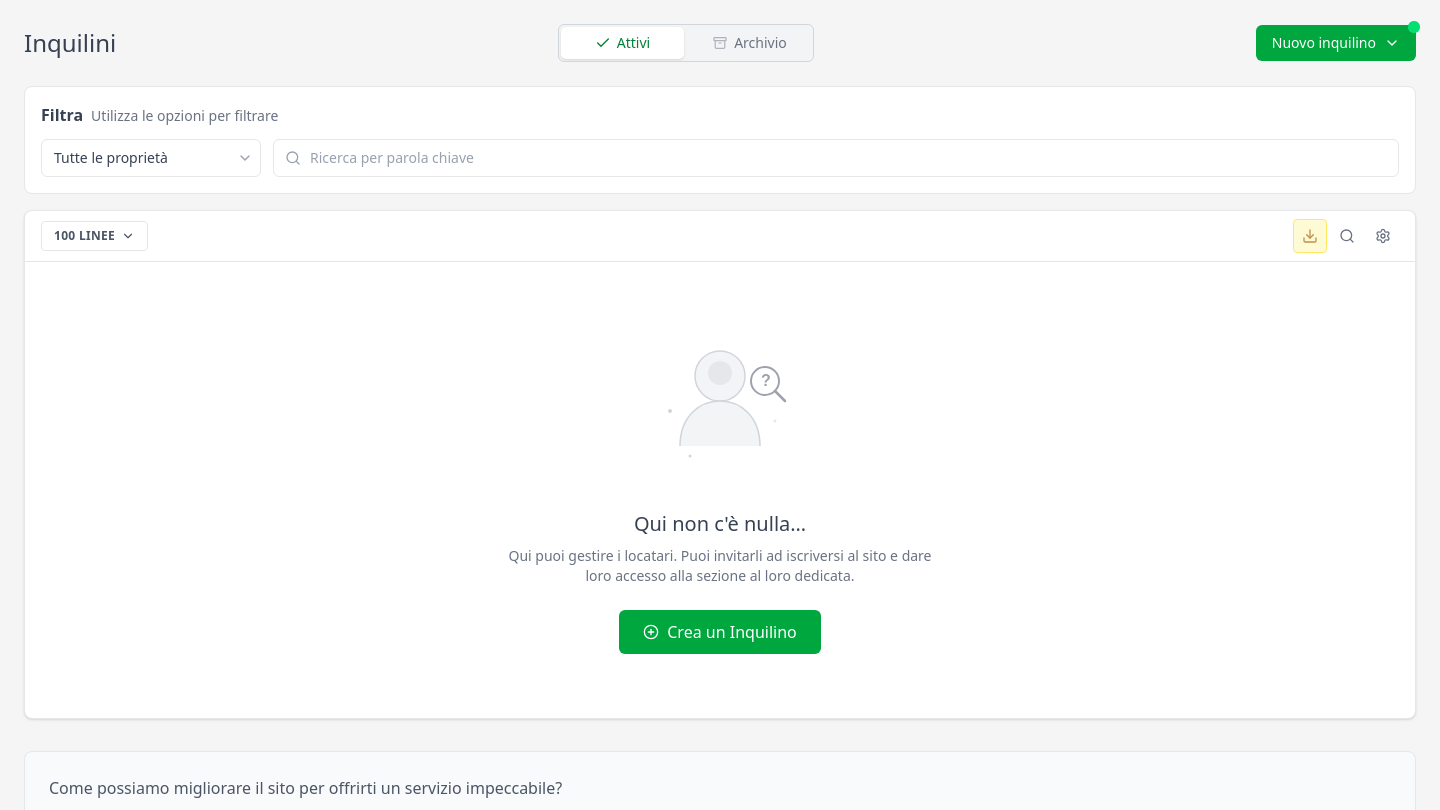
Test: C5.4 lifecycle reale TenantsPage › menu archived e restore persistito
Click the button "Archivio" at (750, 43), box [686, 25, 813, 61]
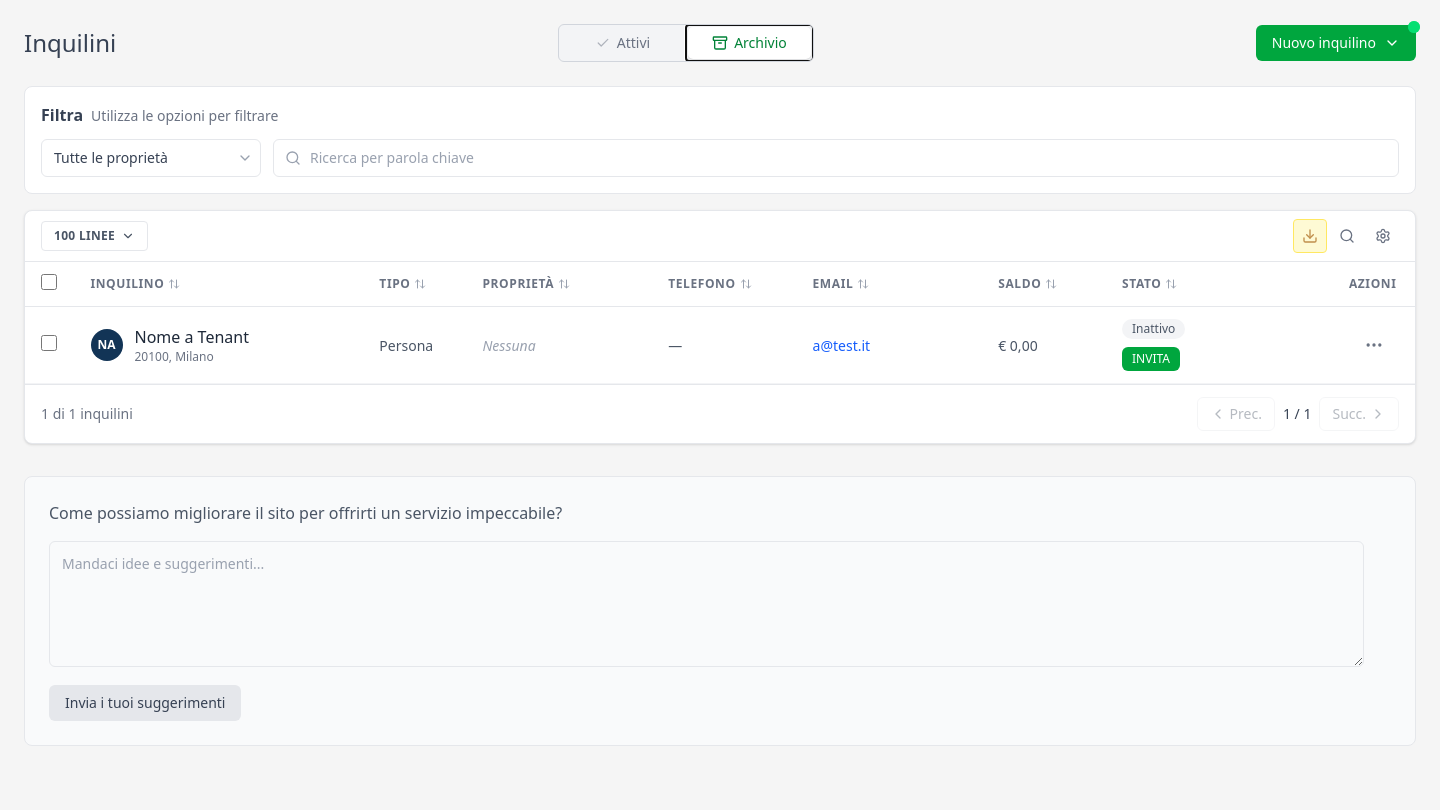
Click the button named "Azioni" at (1374, 345), box [1356, 327, 1392, 363]
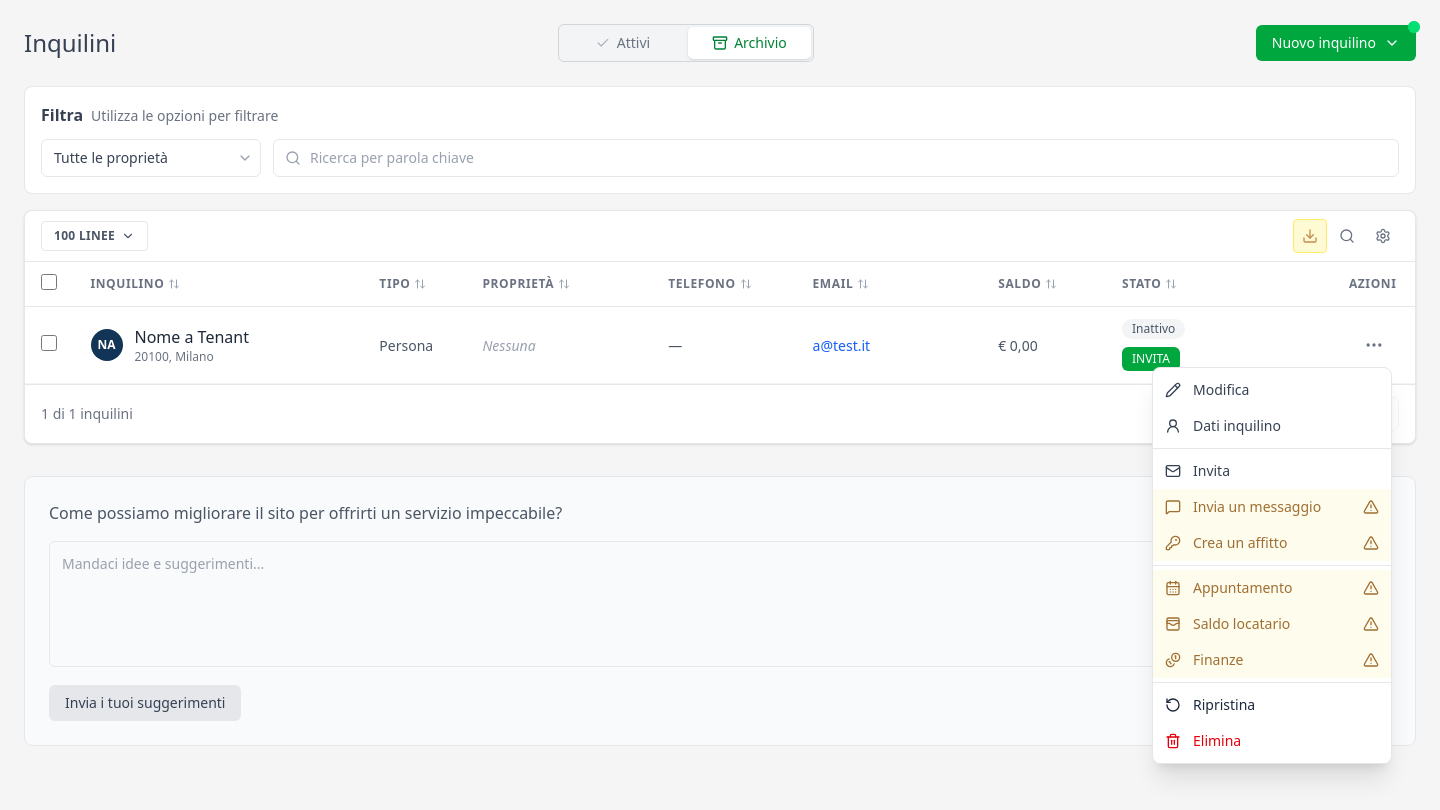
Check: the menu item "Modifica" is shown, box [1165, 380, 1249, 399]
Check: the menu item "Ripristina" is shown
Check: the menu item "Elimina" is shown, box [1153, 723, 1391, 759]
Click the menu item "Ripristina" at (1272, 705), box [1153, 687, 1391, 723]
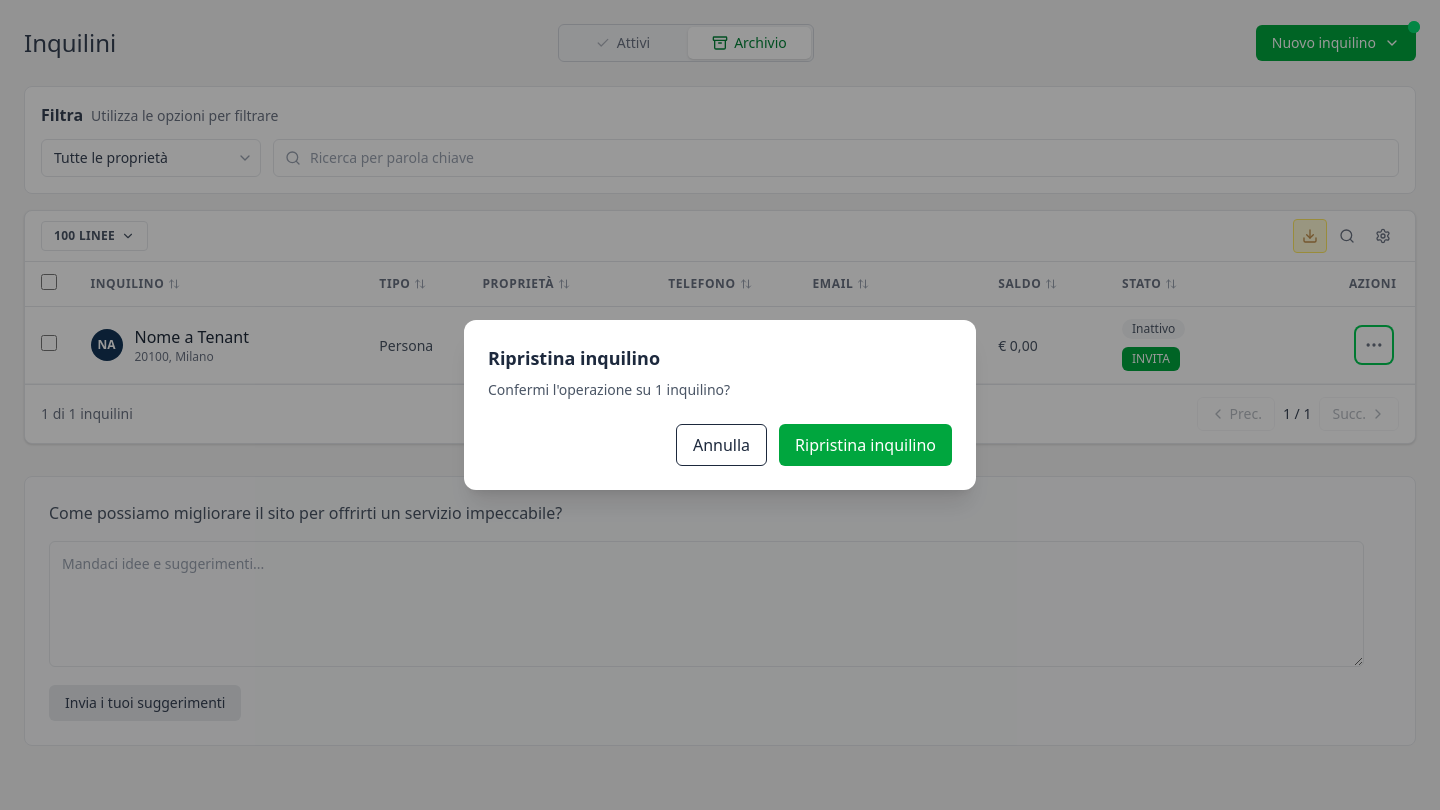
Click the button "Ripristina inquilino" at (866, 445), box [779, 424, 952, 466]
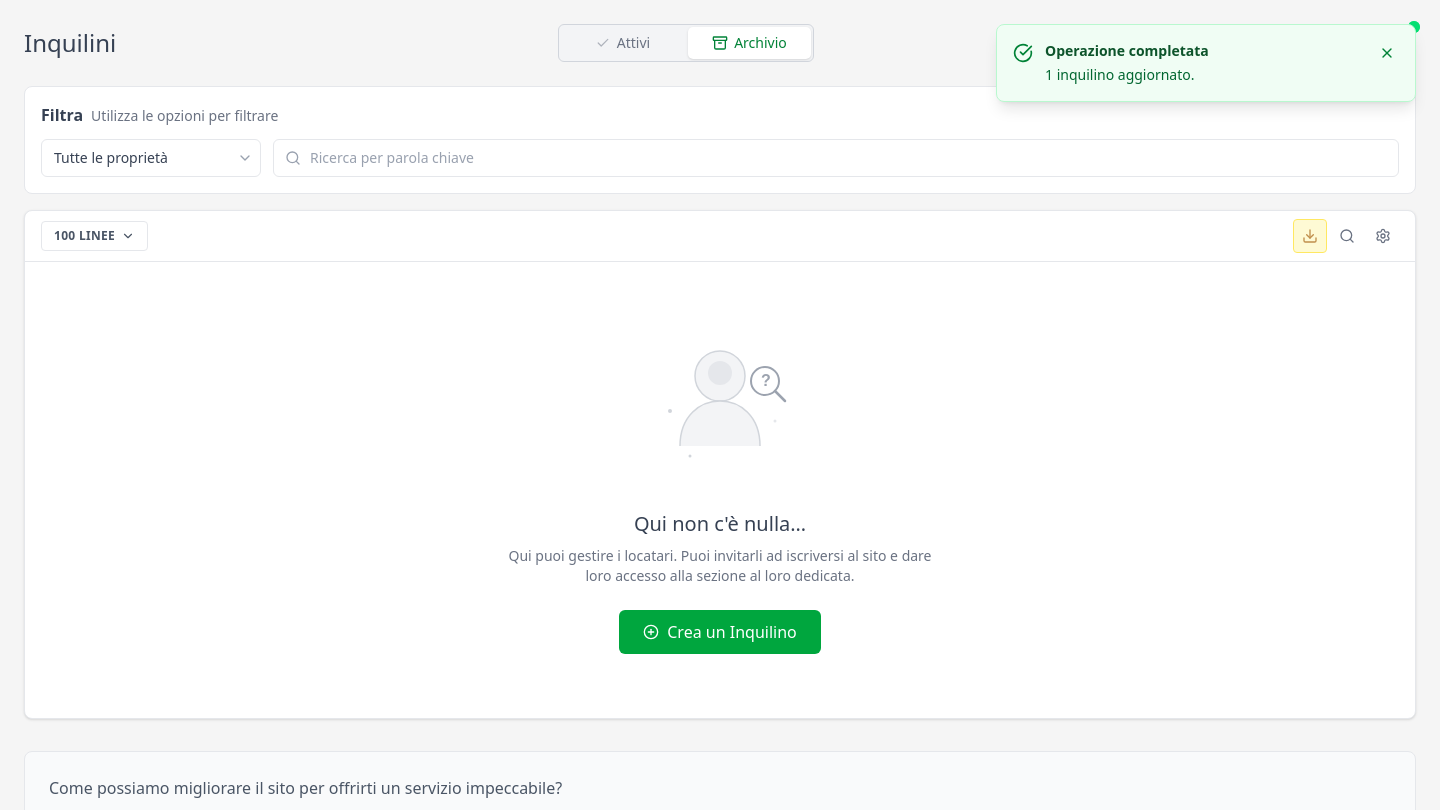
Check: the link "Nome a Tenant" is gone
Click the button "Attivi" at (622, 43), box [559, 25, 686, 61]
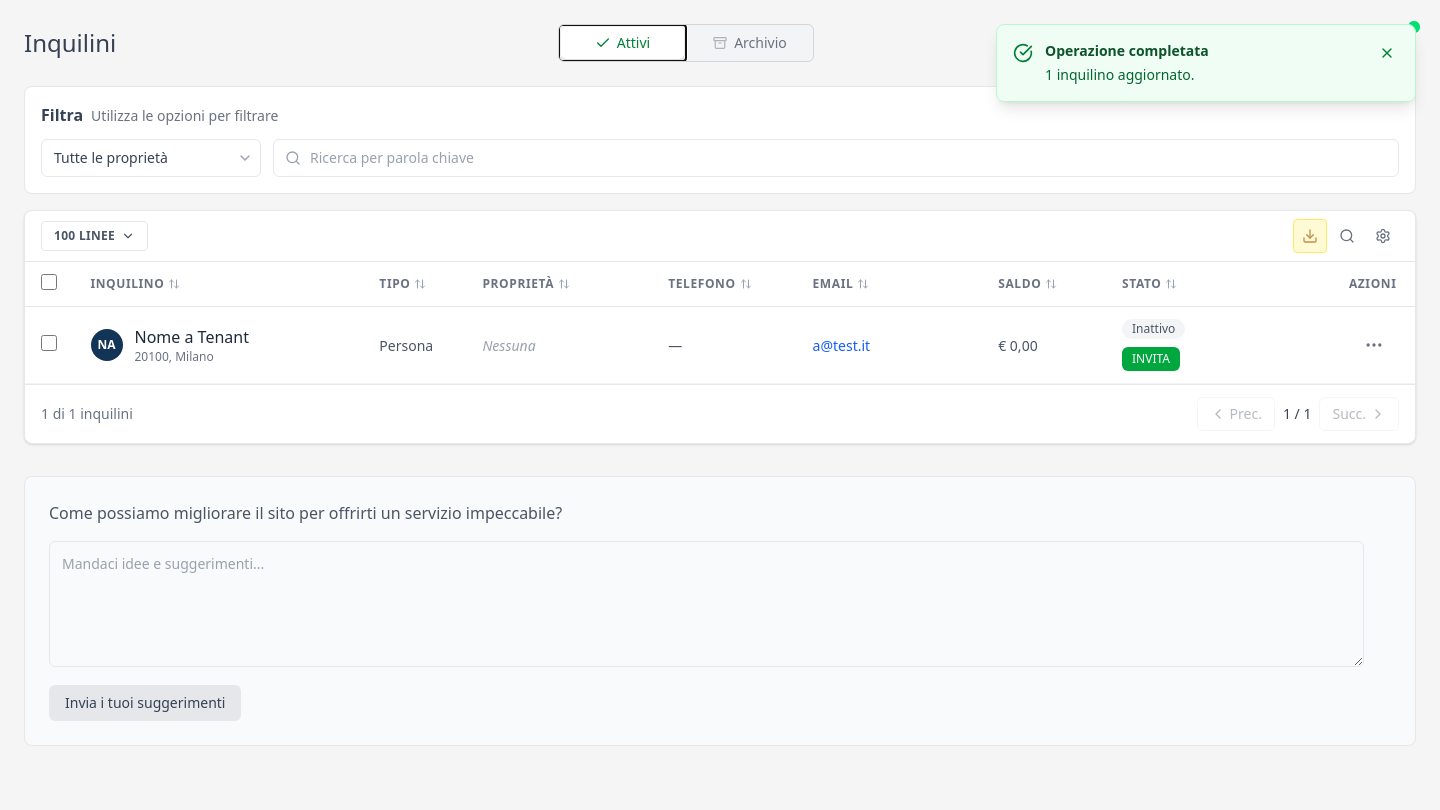
Check: the text "Nome a Tenant" is shown, box [134, 325, 249, 349]
